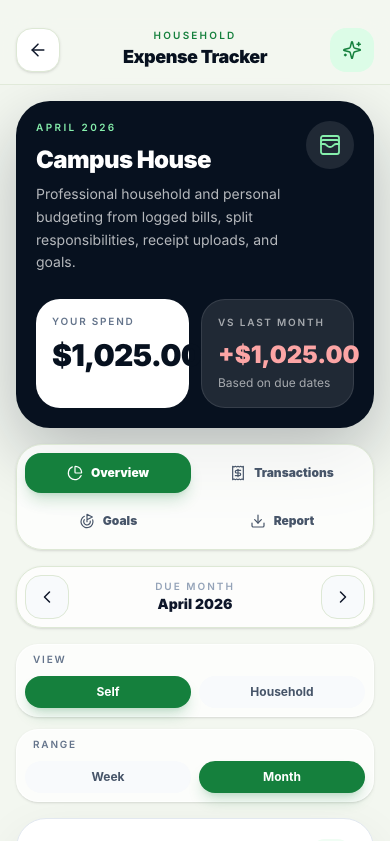
Test case: HouseholdExpensePage › shows the transaction tab for the selected scope
Click the button "Transactions" at (282, 473), box top-left (199, 453), bottom-right (365, 493)
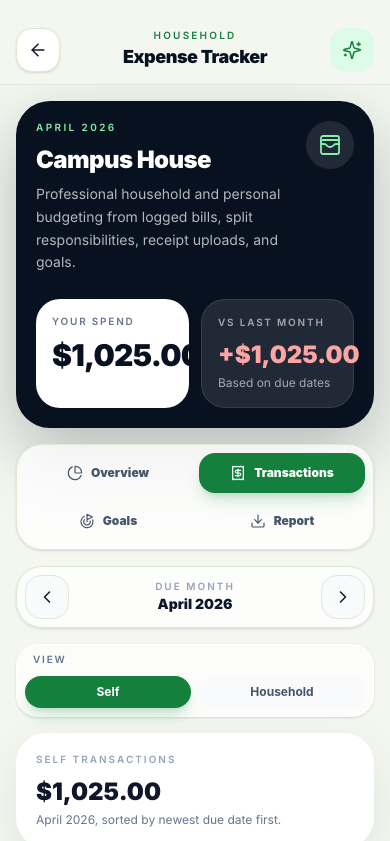
Check: the text "$1,025.00" is shown, box top-left (52, 338), bottom-right (173, 374)
Check: the text "Self transactions" is shown, box top-left (36, 754), bottom-right (176, 766)
